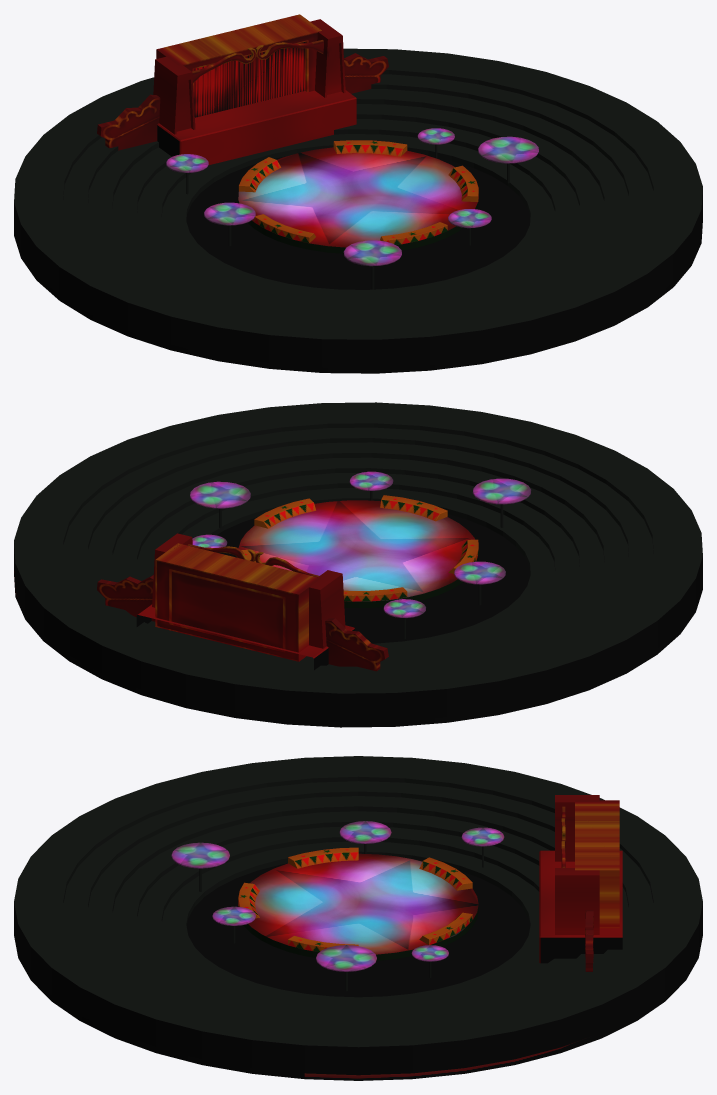
The model's file is BossMap.fbx.
The picture shows the model from 3 angles, top to bottom: view 1: azimuth 30°, elevation 25°; view 2: azimuth 150°, elevation 25°; view 3: azimuth 270°, elevation 25°; orthographic projection.
Visible parts, largest first — view 1: pCube17; view 2: pCube17; view 3: pCube17.
Boxes of the visible parts, x1,y1,x2,y2 form: pCube17: [14, 14, 702, 373]; pCube17: [14, 402, 702, 727]; pCube17: [14, 756, 702, 1080].
Bounding box in the file's own units: 10943 × 1869 × 10943.
